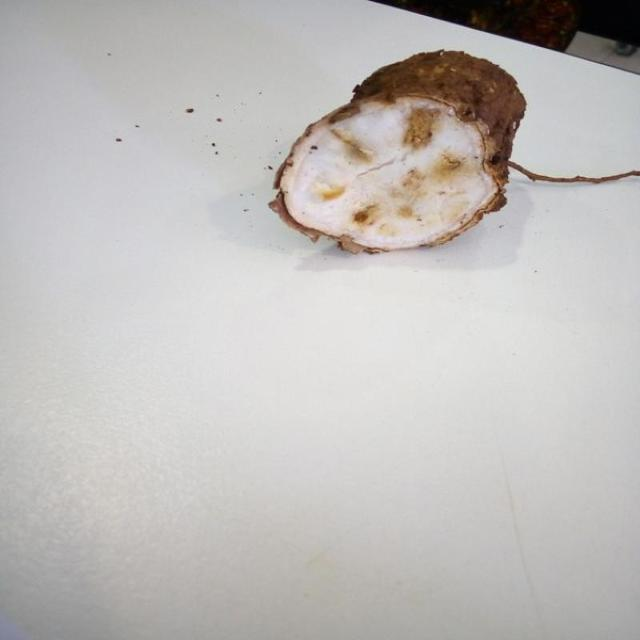cassava leaf: (269, 47, 526, 254)
